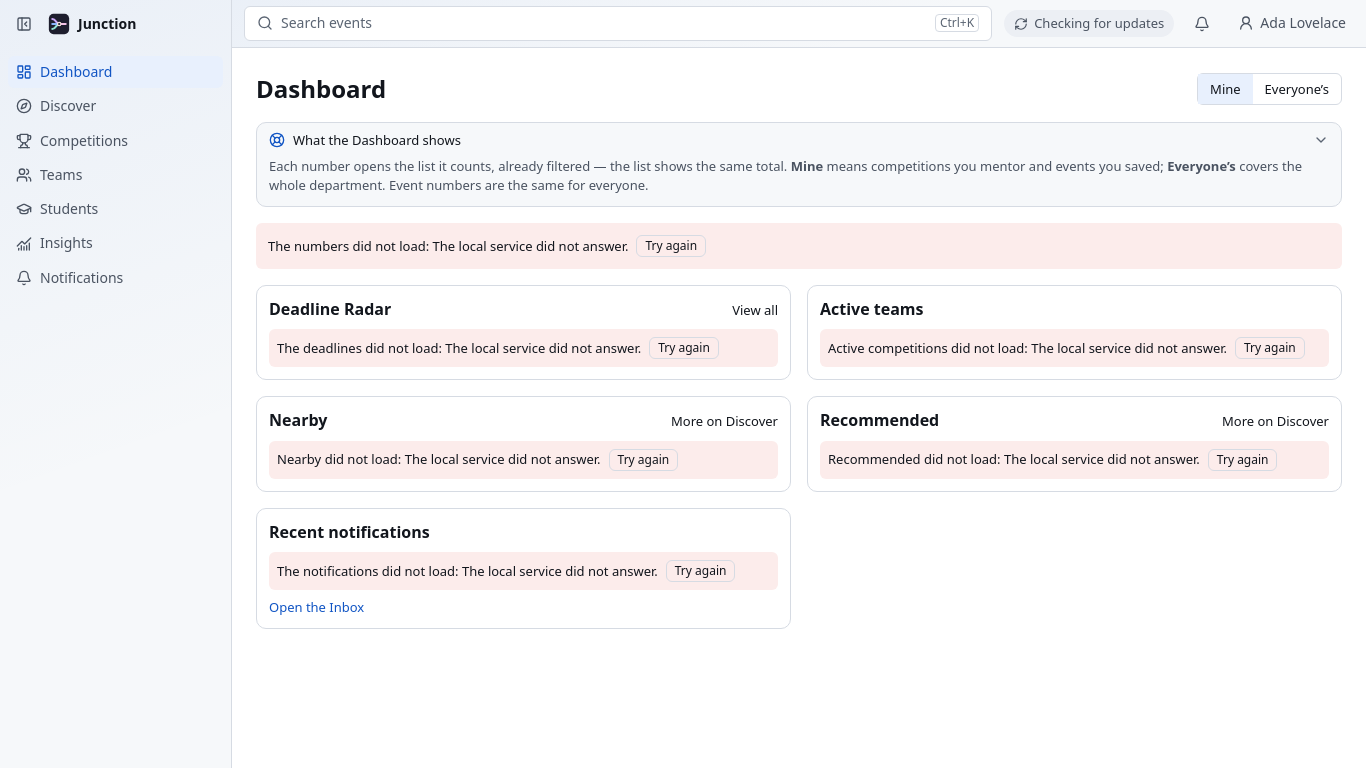
Scenario: the user menu › closes on Escape
The width and height of the screenshot is (1366, 768).
Expected: the navigation bar named "Main" is shown, [0,0,231,302]
Click the button "Ada Lovelace" at point(1292, 23), box [1230,7,1354,40]
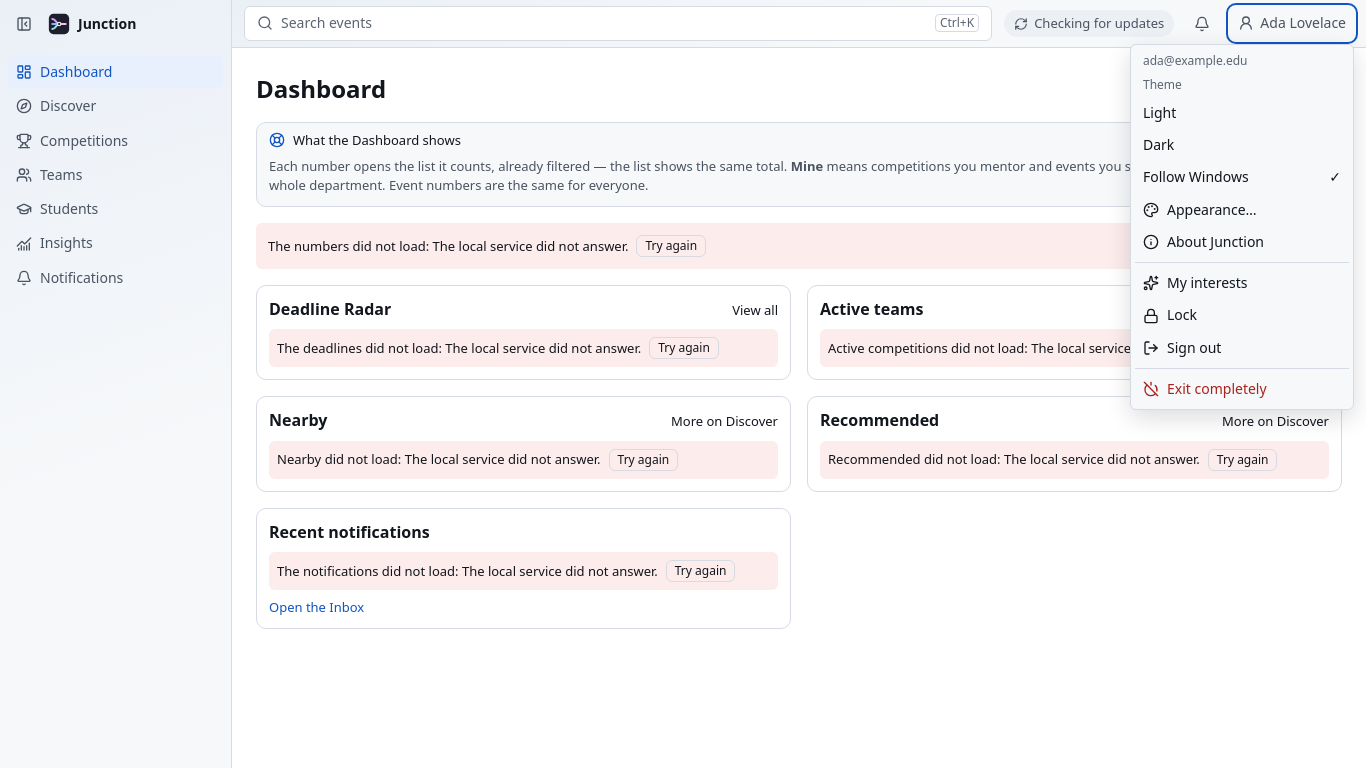
Expected: the menu named "Account" is shown, [1130,44,1354,410]
Press Escape
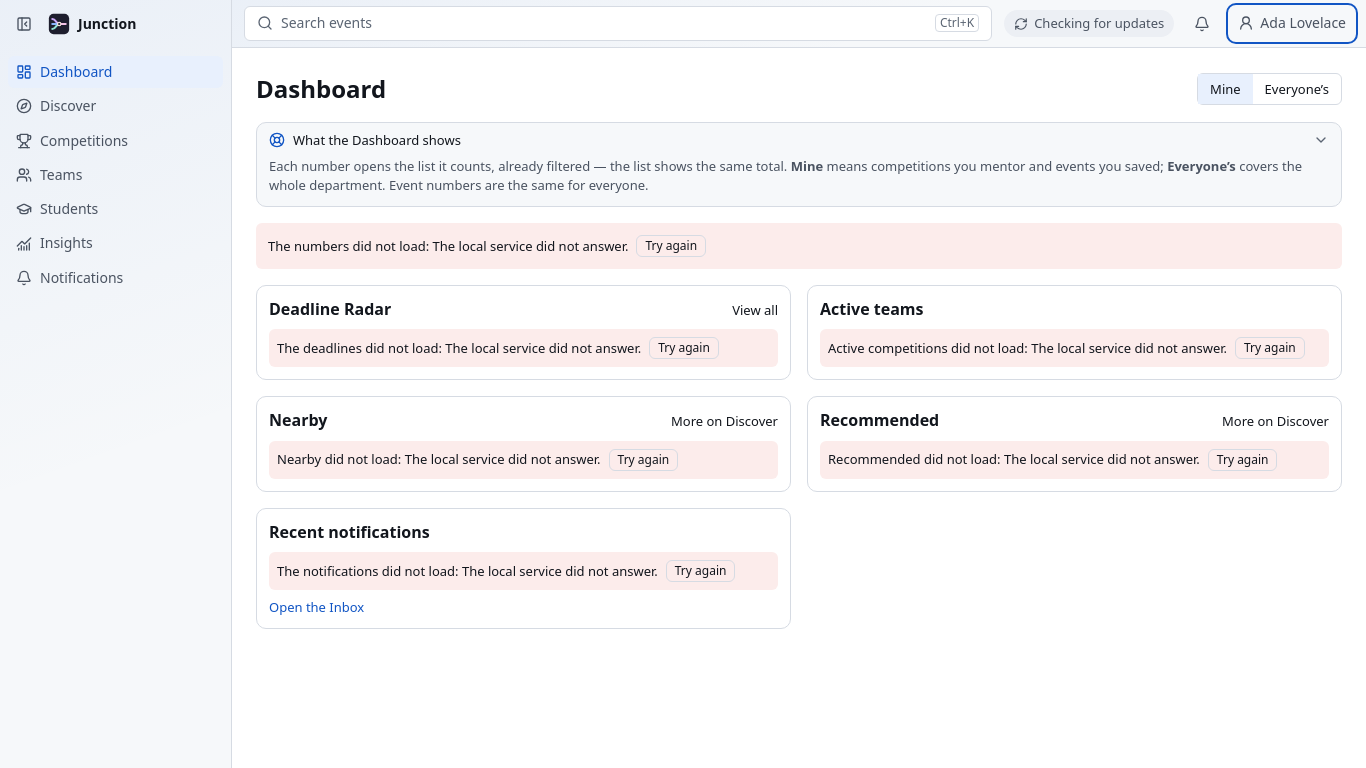
Expected: the menu "Account" is gone
